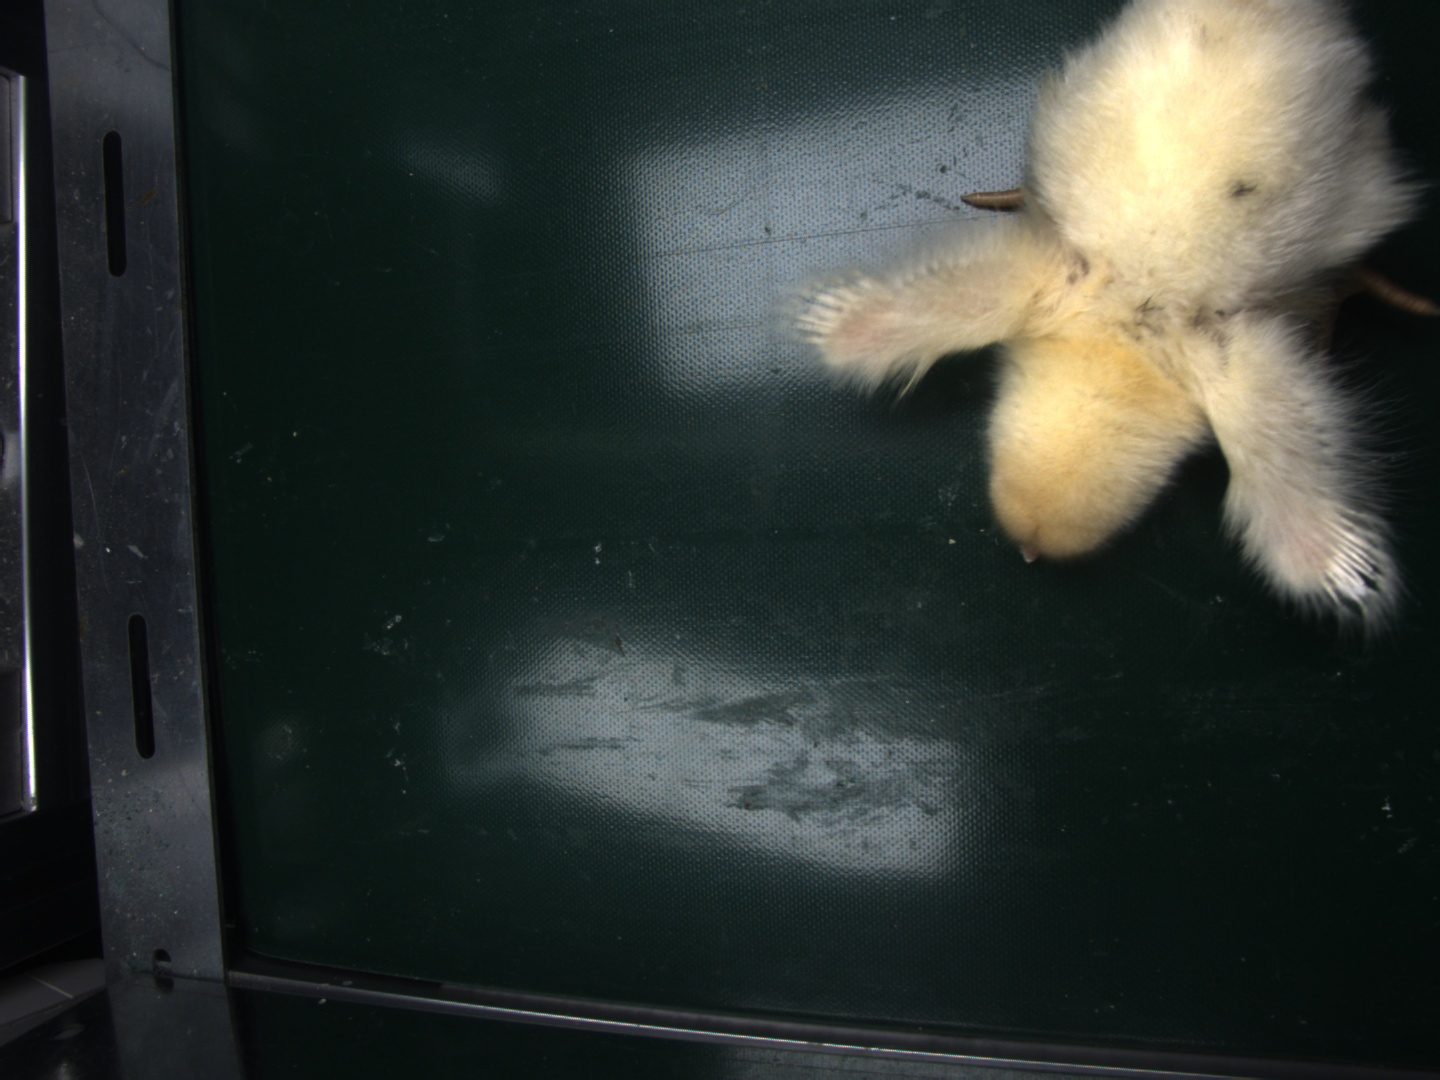male: (1318, 514, 1365, 600)
